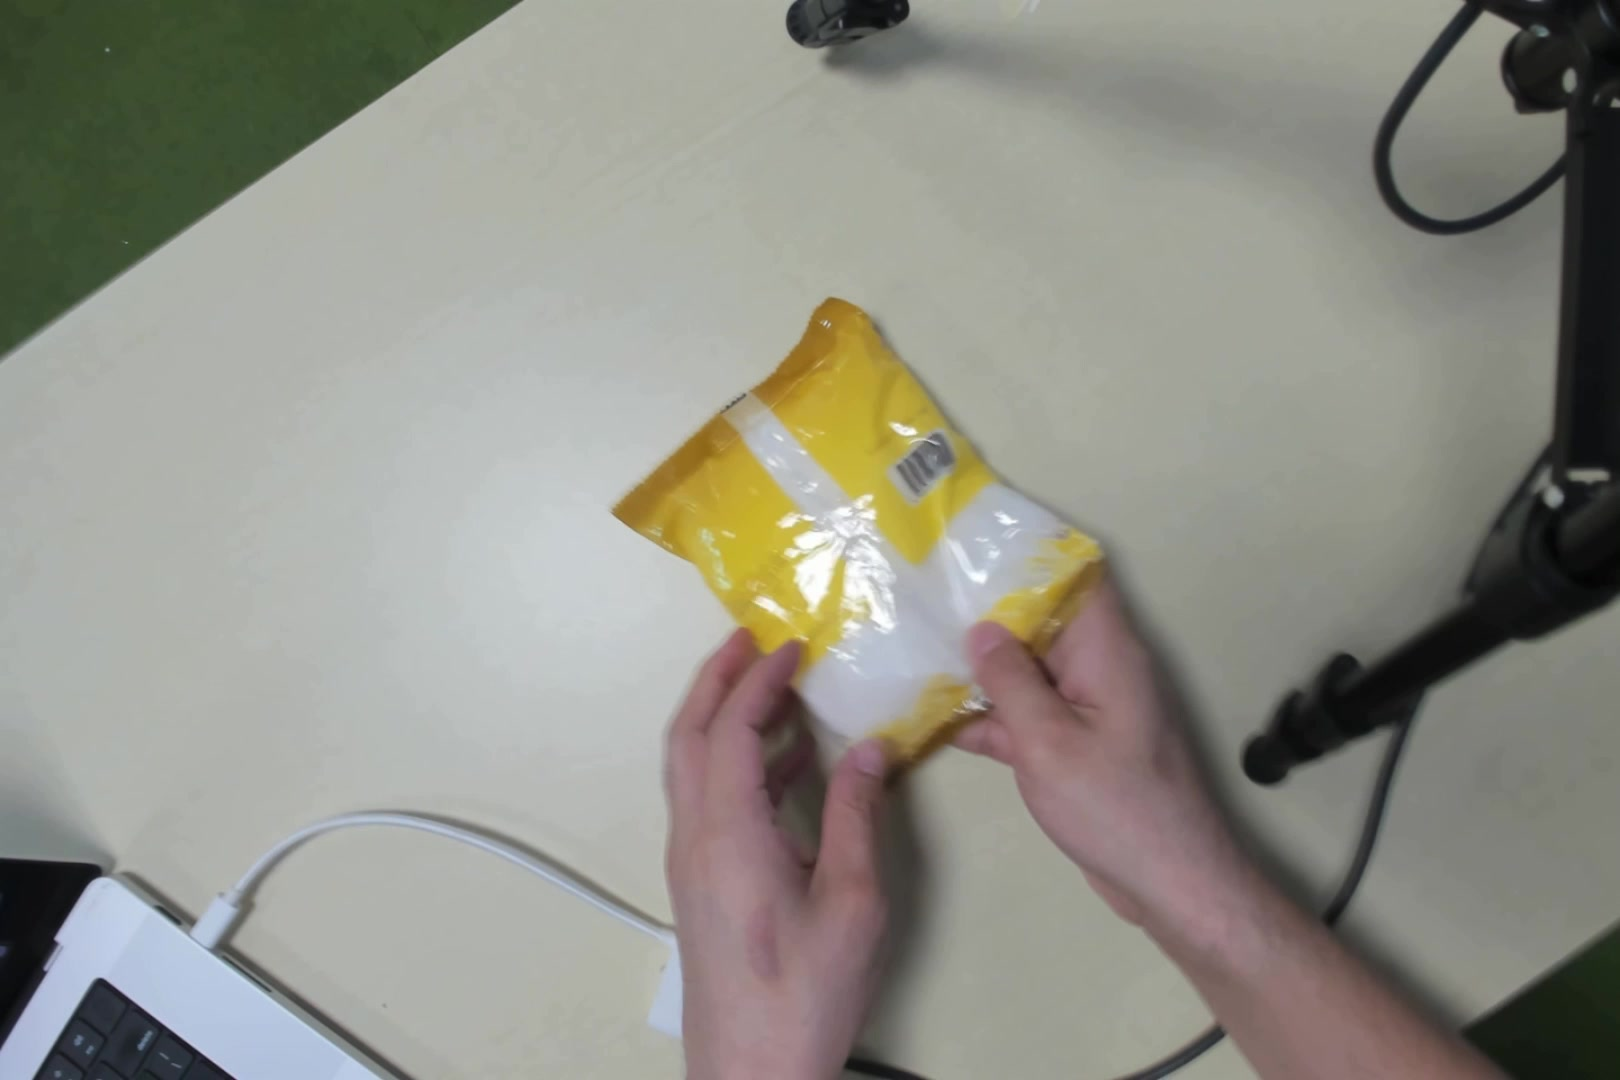Salt_500-599g_Halal_NonHealthy: (699, 362, 1035, 720)
